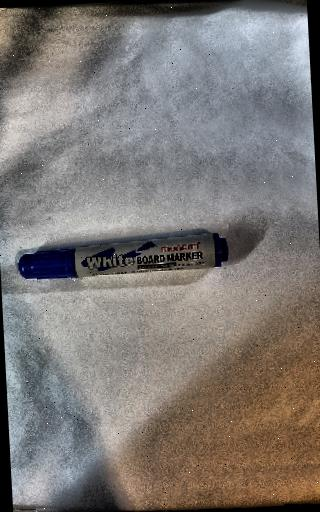marcador azul: (18, 233, 229, 279)
